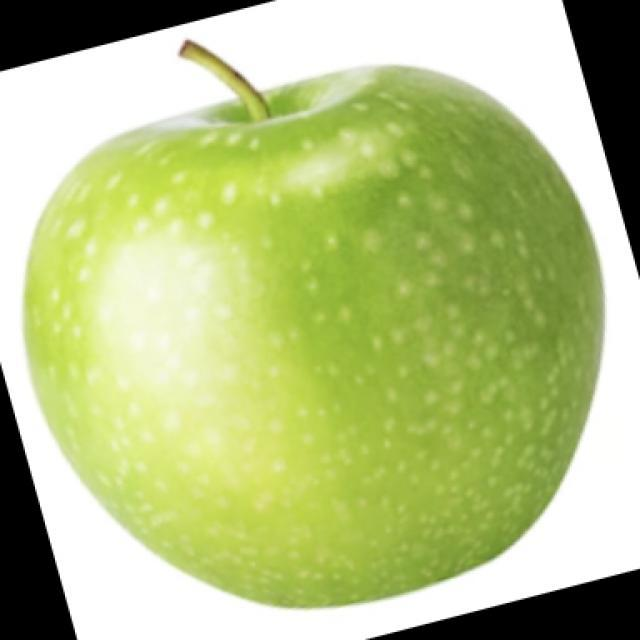Fresh Apple: (43, 66, 595, 612)
